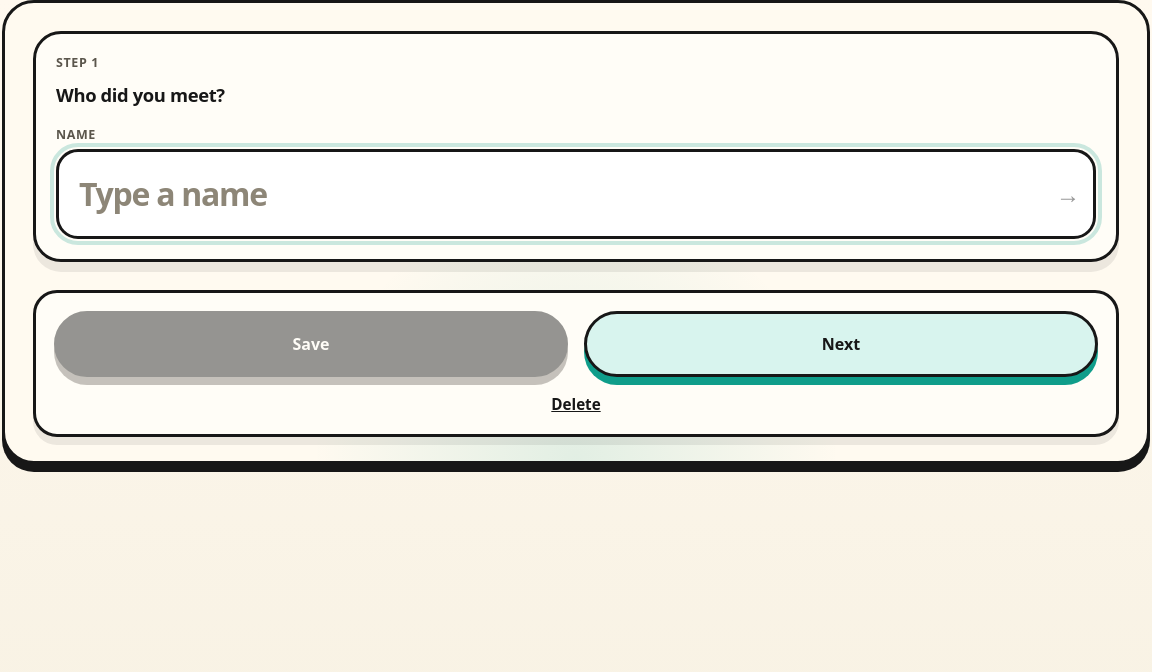
Scenario: AddNameScreenV2 › uses next to move through the detail flow and saves the draft
Type "Ayo" into the field labelled "Name".
click(576, 194); type("Ayo")  # box [56, 149, 1096, 239]
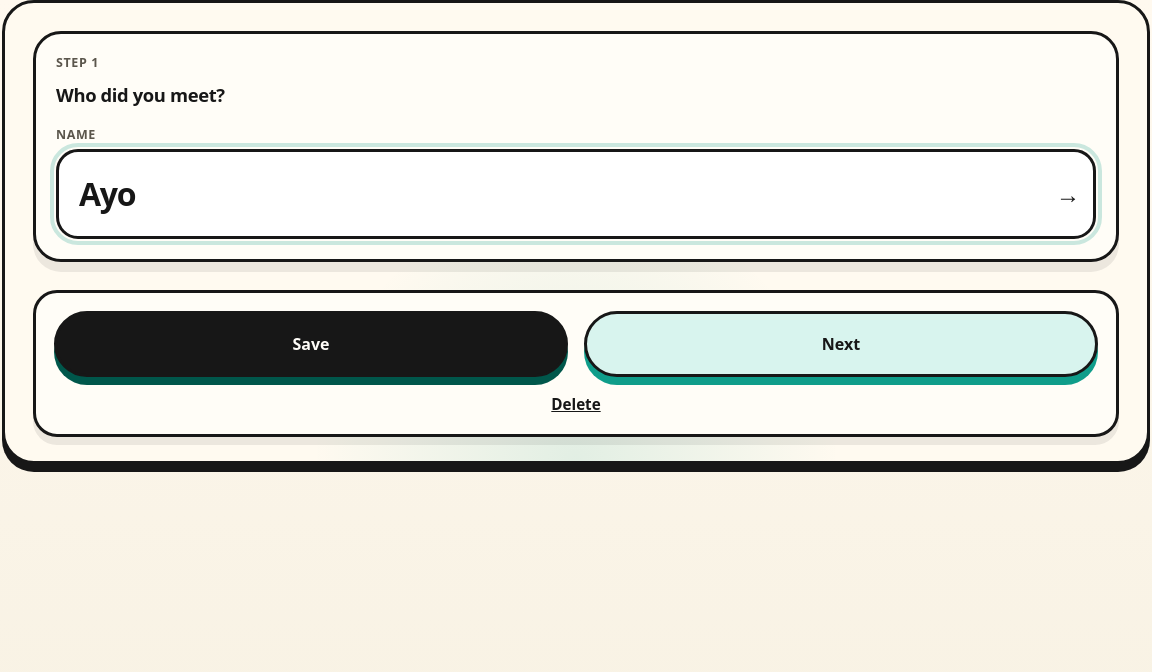
Click the button named "Confirm name".
click(1068, 194)  # box [1056, 182, 1080, 206]
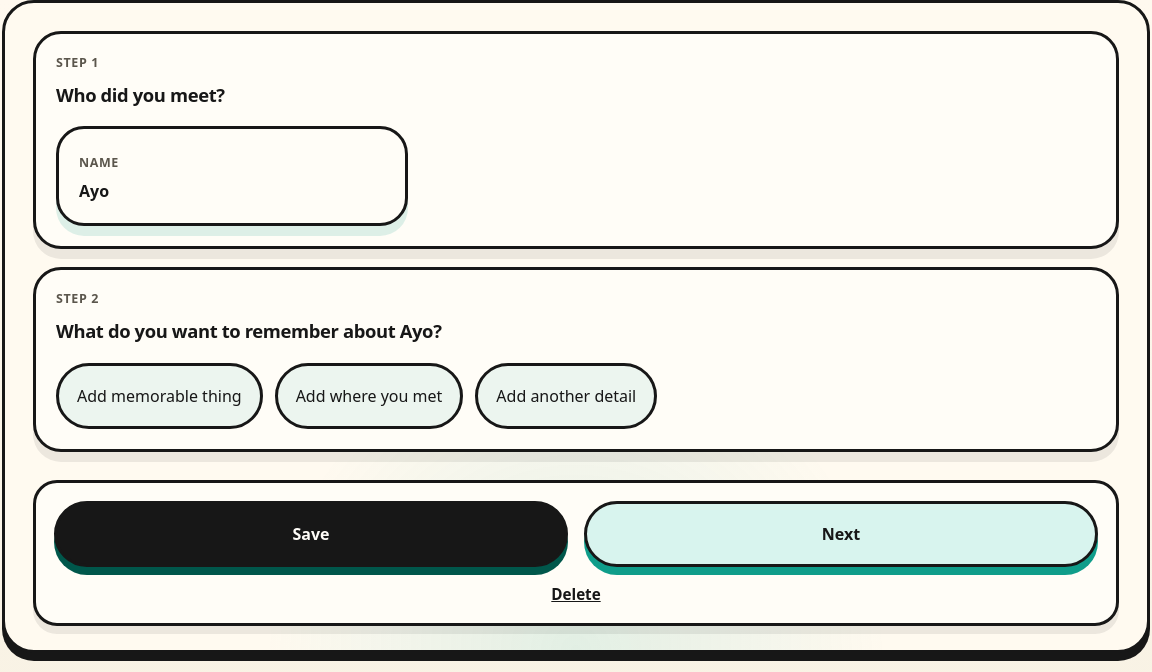
Click the button "Next".
click(841, 534)  # box [584, 501, 1098, 567]
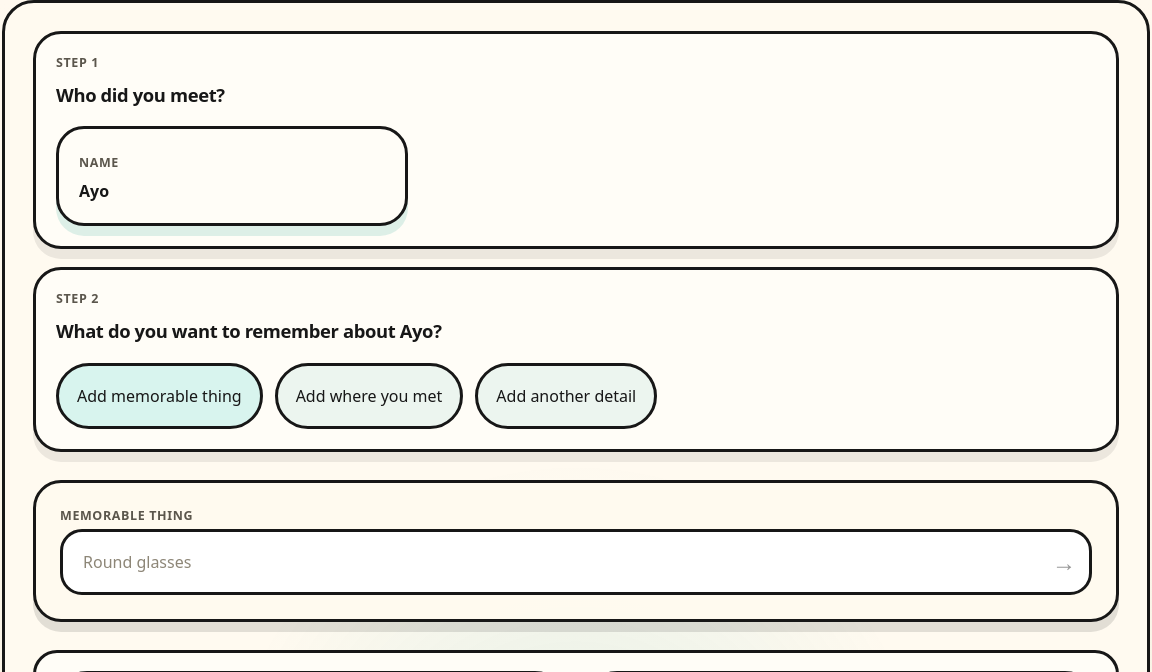
Result: the field labelled "Memorable thing" is shown
Type "Fintech founder" into the field labelled "Memorable thing".
click(576, 562); type("Fintech founder")  # box [60, 529, 1092, 595]
(page scrolled)
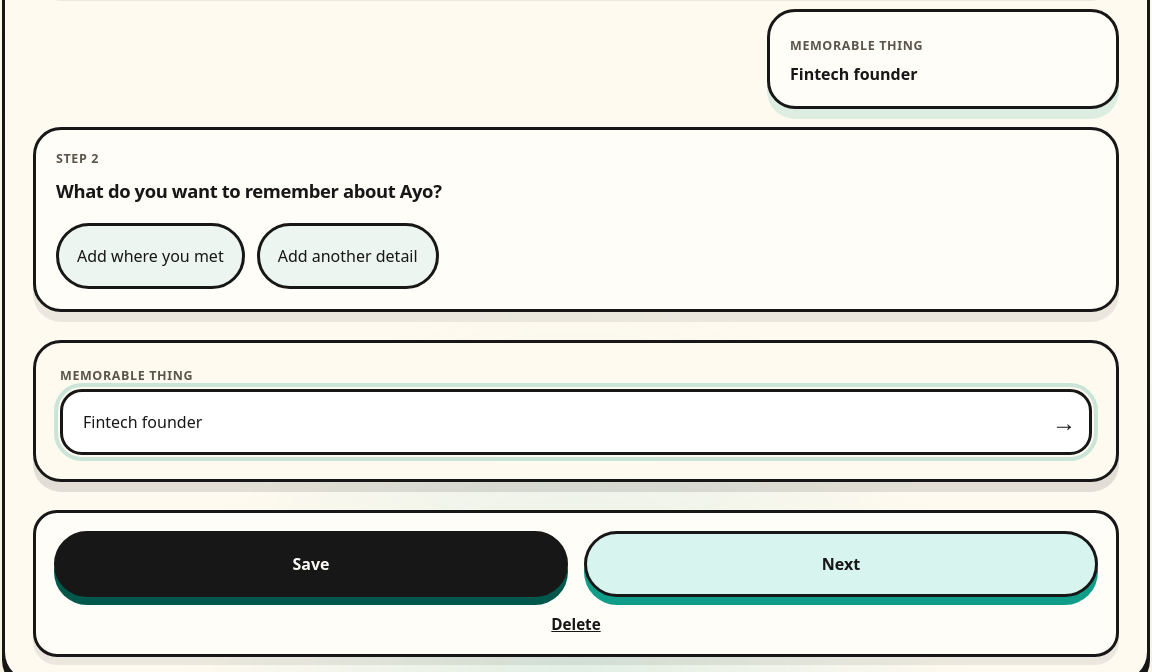
Click the button "Next".
click(841, 564)  # box [584, 531, 1098, 597]
(page scrolled)
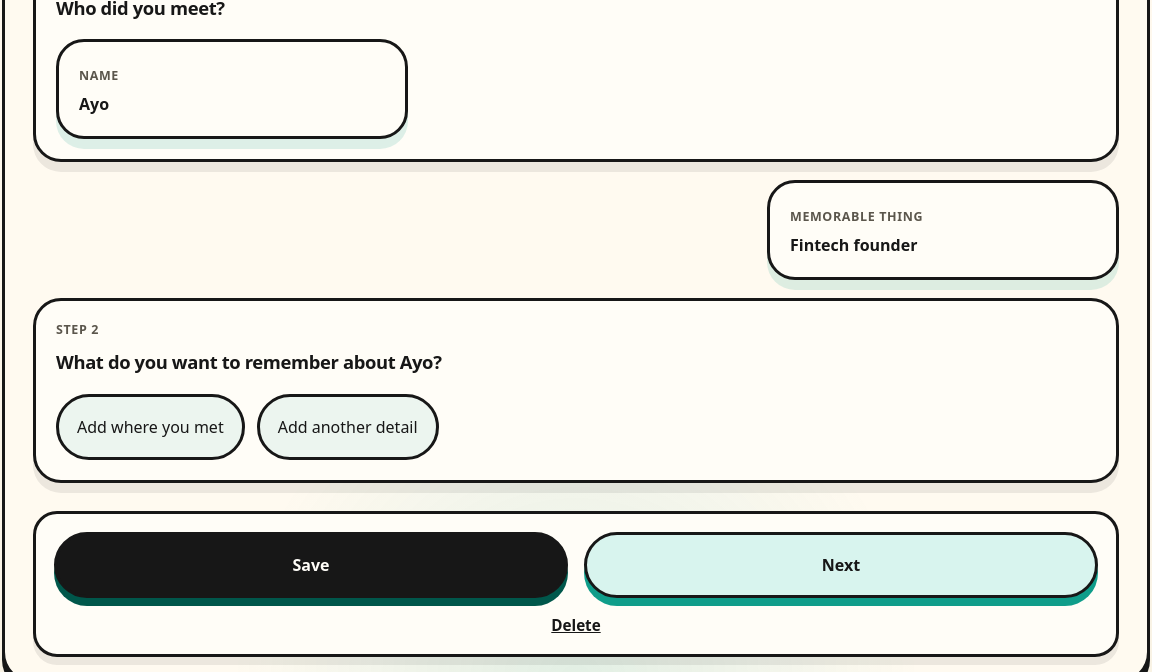
Click the button "Save".
click(311, 565)  # box [54, 532, 568, 598]
(page scrolled)
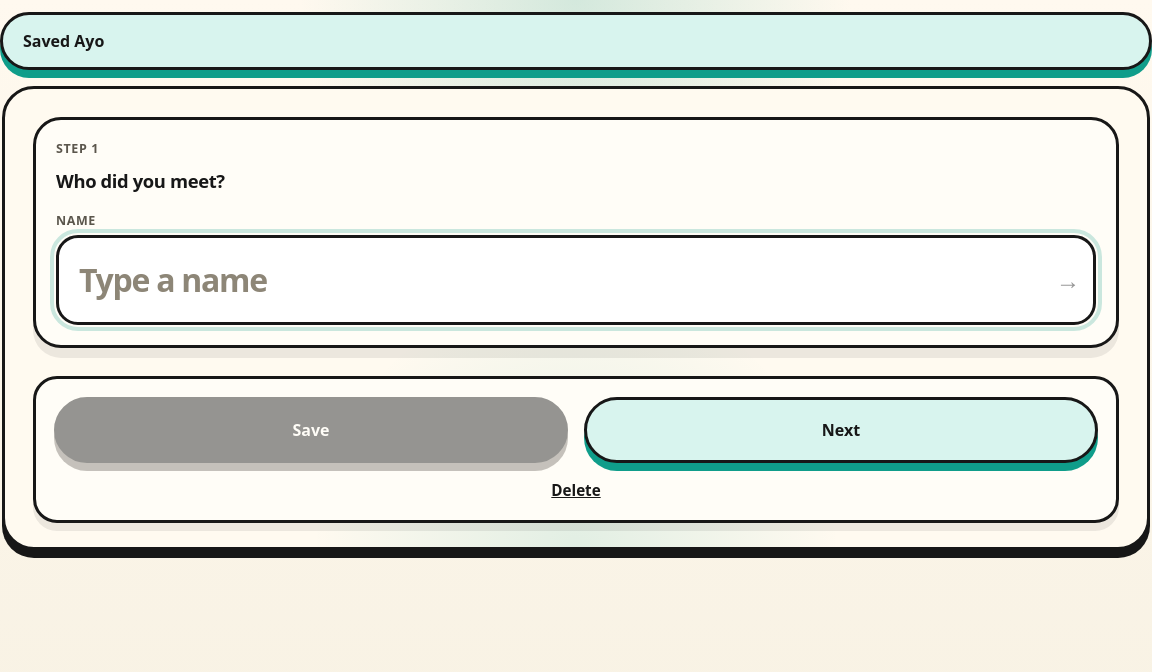
Result: the message reads "Saved Ayo" at [23, 30, 104, 52]
Result: the field labelled "Name" is empty at [56, 235, 1096, 325]
Result: the button labelled "Memorable thing" is gone
